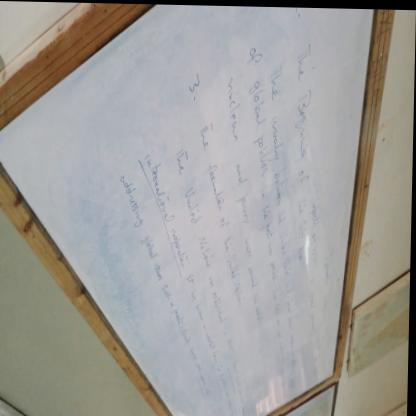Handwritten text: (107, 150, 205, 369), (135, 141, 221, 356), (218, 61, 270, 332), (164, 128, 233, 332), (190, 104, 251, 324), (242, 70, 287, 352), (266, 53, 303, 391), (291, 35, 313, 267)
